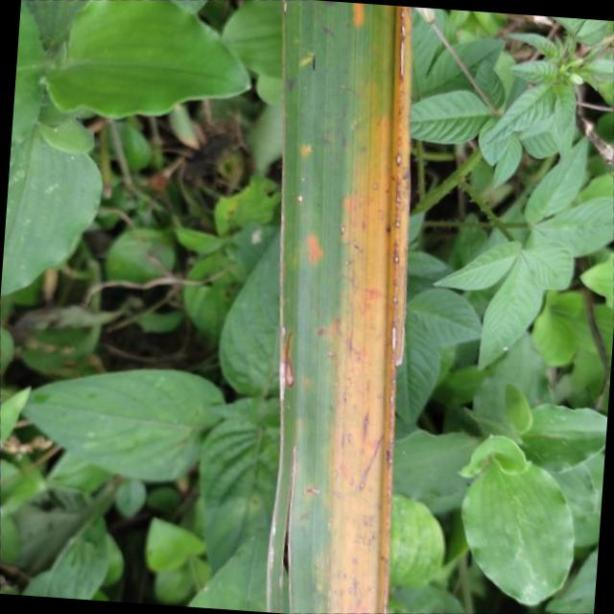Megnesium: (264, 0, 416, 614)
